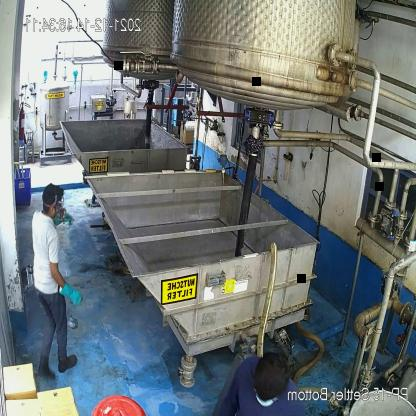glove: (57, 279, 85, 310)
shoes: (56, 348, 78, 378)
